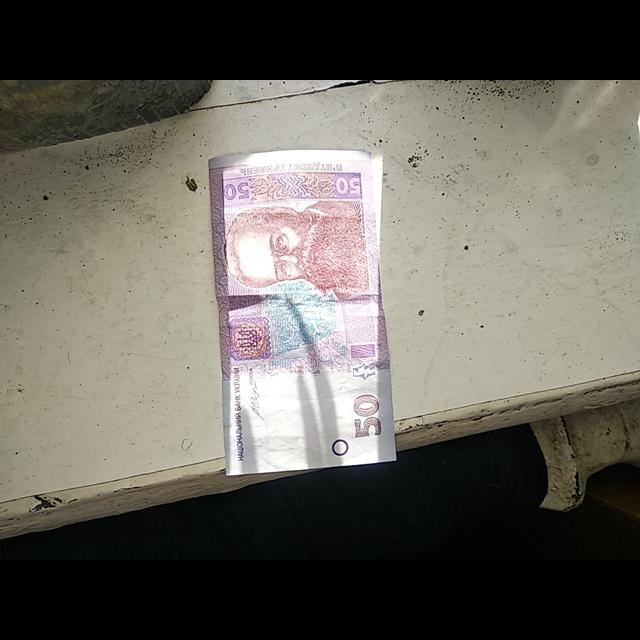50uah: (209, 151, 396, 477)
